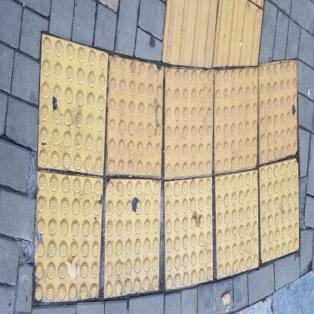Podoctatil: (32, 0, 302, 306)
